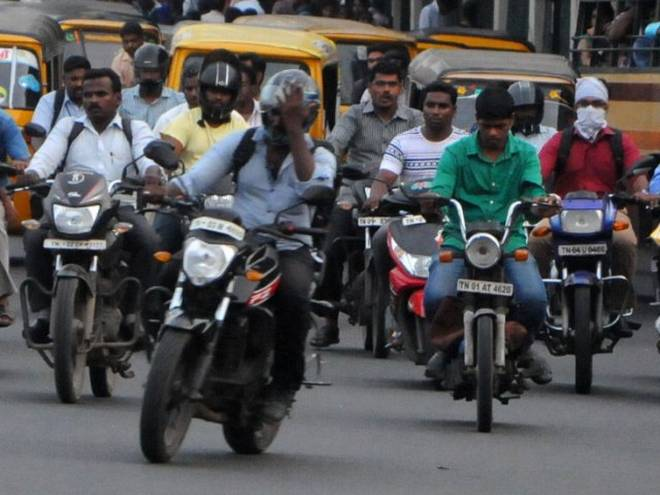NumberPlate: (187, 215, 247, 241), (457, 275, 516, 297), (42, 237, 109, 252), (558, 244, 609, 257)
no-helmet: (474, 88, 514, 152), (81, 68, 121, 126), (419, 82, 458, 137), (368, 63, 400, 115)
vehicle: (145, 195, 264, 459), (445, 196, 525, 434), (39, 174, 122, 400), (545, 192, 623, 393)
